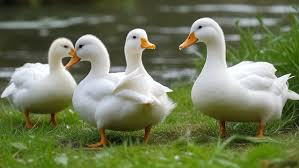Not_a_Chicken: (174, 12, 298, 137), (63, 32, 162, 150), (2, 32, 73, 126)
